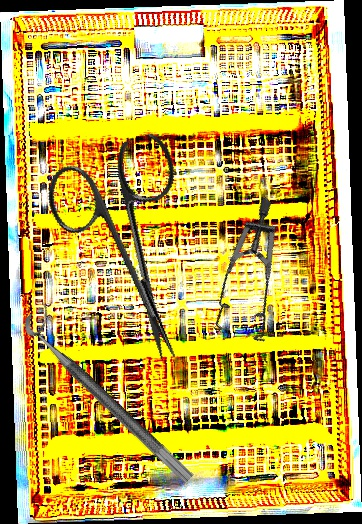Fixation Ring: (19, 301, 208, 485)
Iris Scissors: (37, 129, 234, 380)
Speculum: (174, 197, 337, 360)
